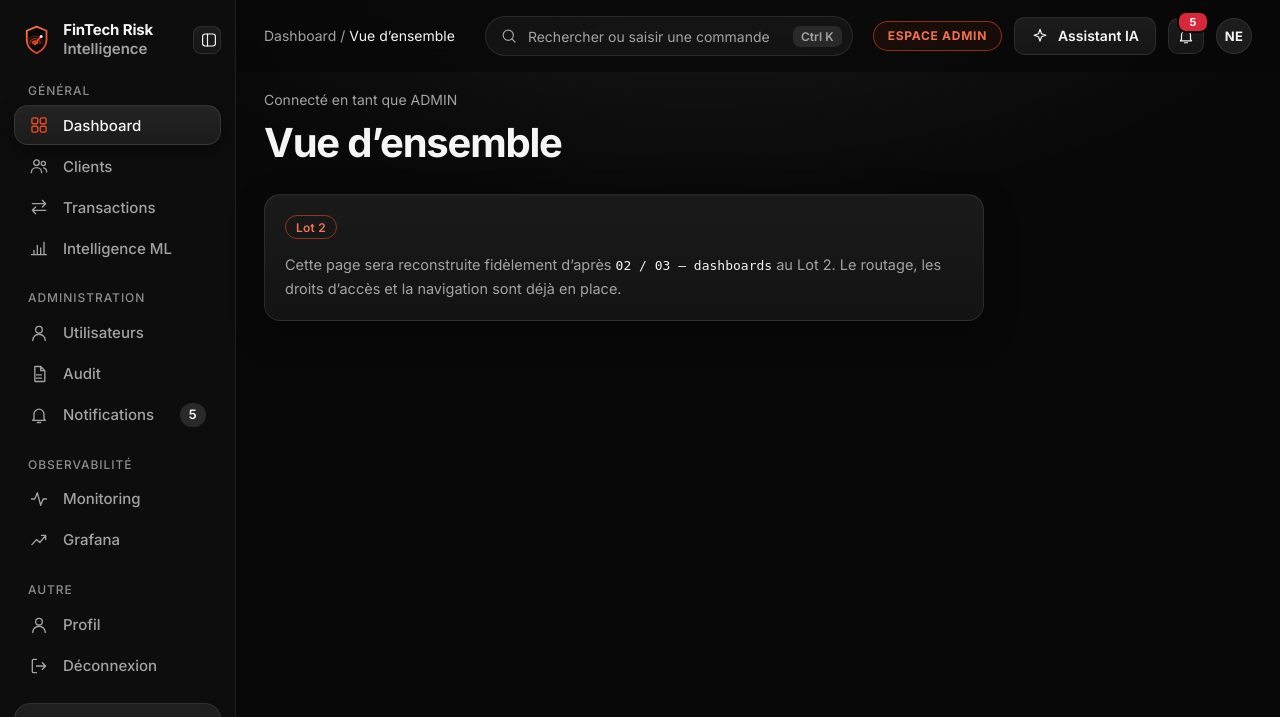
sidebar selon le rôle › la déconnexion renvoie vers /login
What coordinates should you click on to do the following:
click the button "Déconnexion"
I would click on:
 (118, 666)
Its box is x1=14 y1=646 x2=221 y2=686.
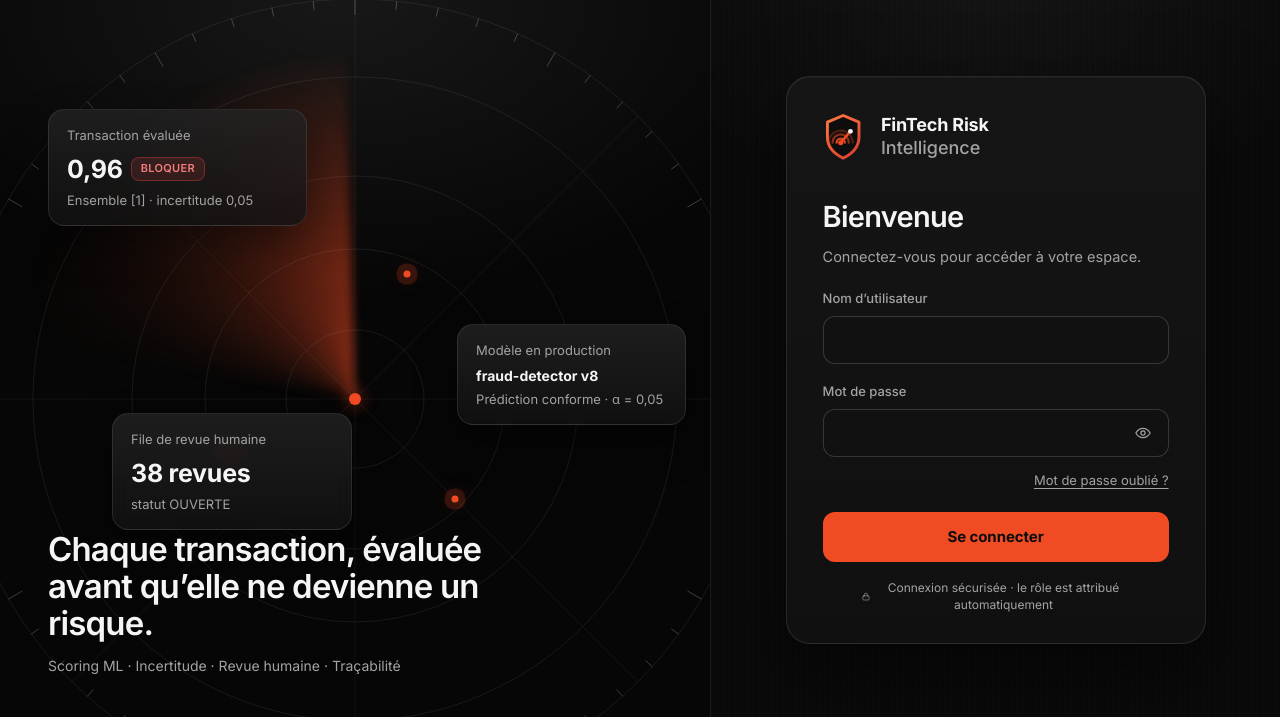
Check: the heading "Bienvenue" is shown, box x1=822 y1=199 x2=963 y2=234
